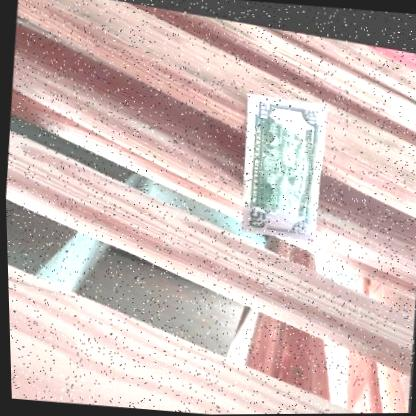dollar_back: (232, 87, 330, 239)
